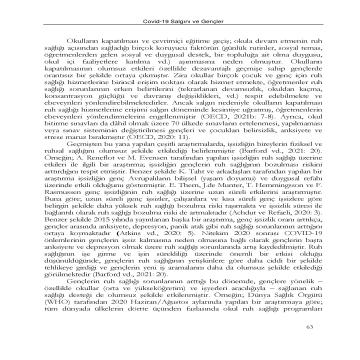header: (141, 18, 225, 24)
